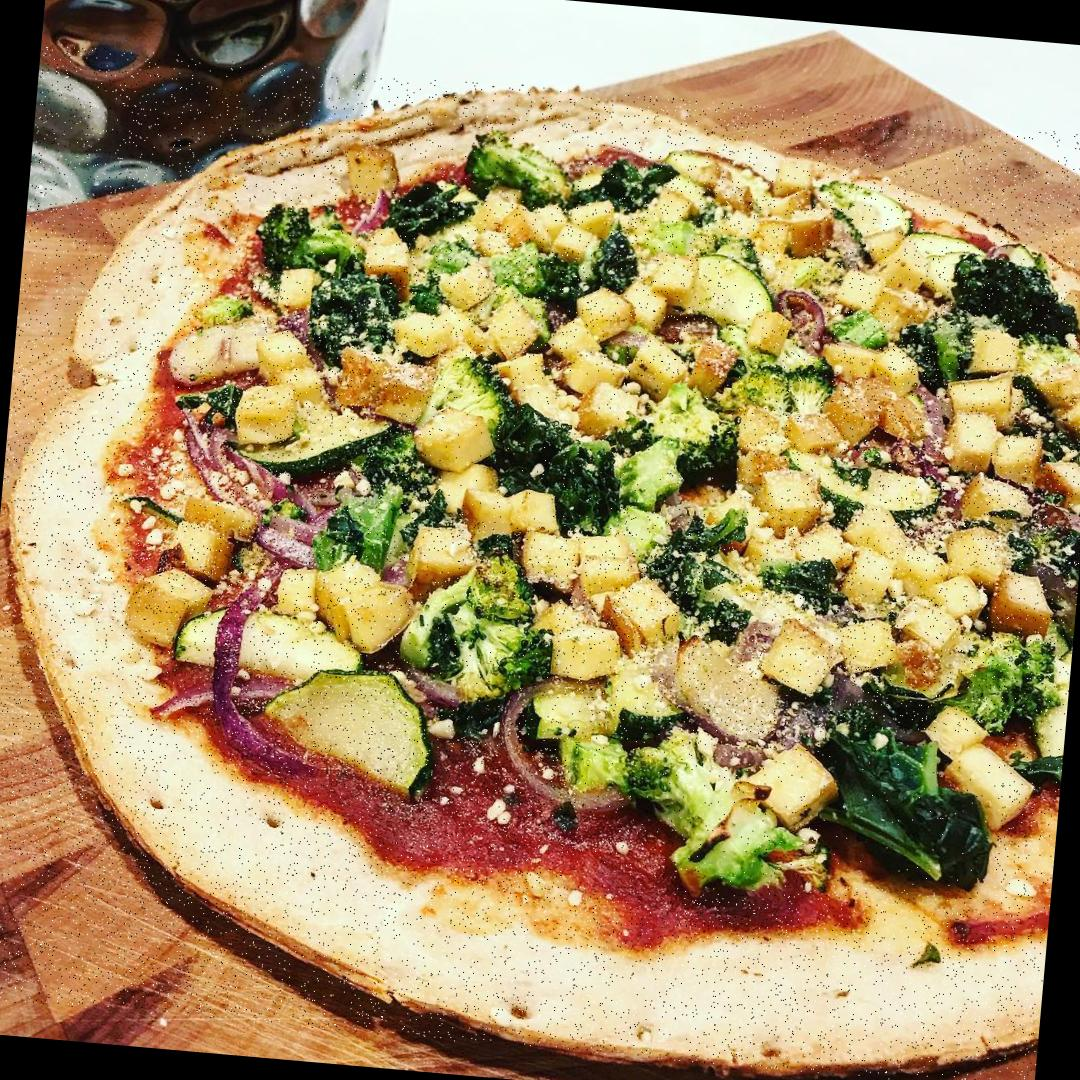Broccoli: (426, 357, 628, 531), (580, 734, 794, 898), (813, 722, 1005, 898), (402, 574, 559, 722), (312, 418, 432, 572), (616, 380, 747, 518), (939, 243, 1080, 343), (446, 132, 581, 209), (245, 200, 369, 282), (960, 631, 1056, 730), (307, 277, 396, 370), (382, 174, 478, 244), (892, 328, 970, 399)
Pizza: (0, 43, 1080, 1080)
